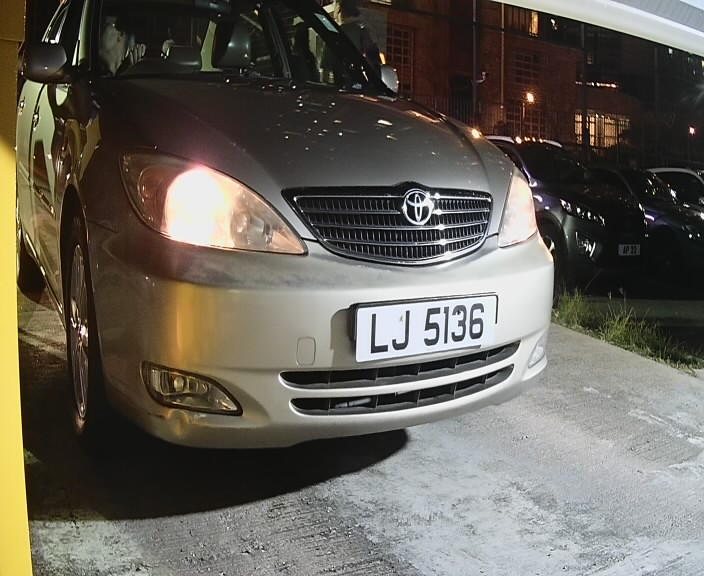License Plate: (339, 277, 507, 377)
